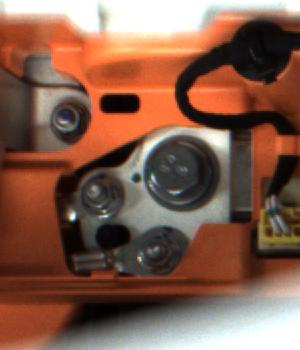nut_b: (136, 131, 226, 213)
